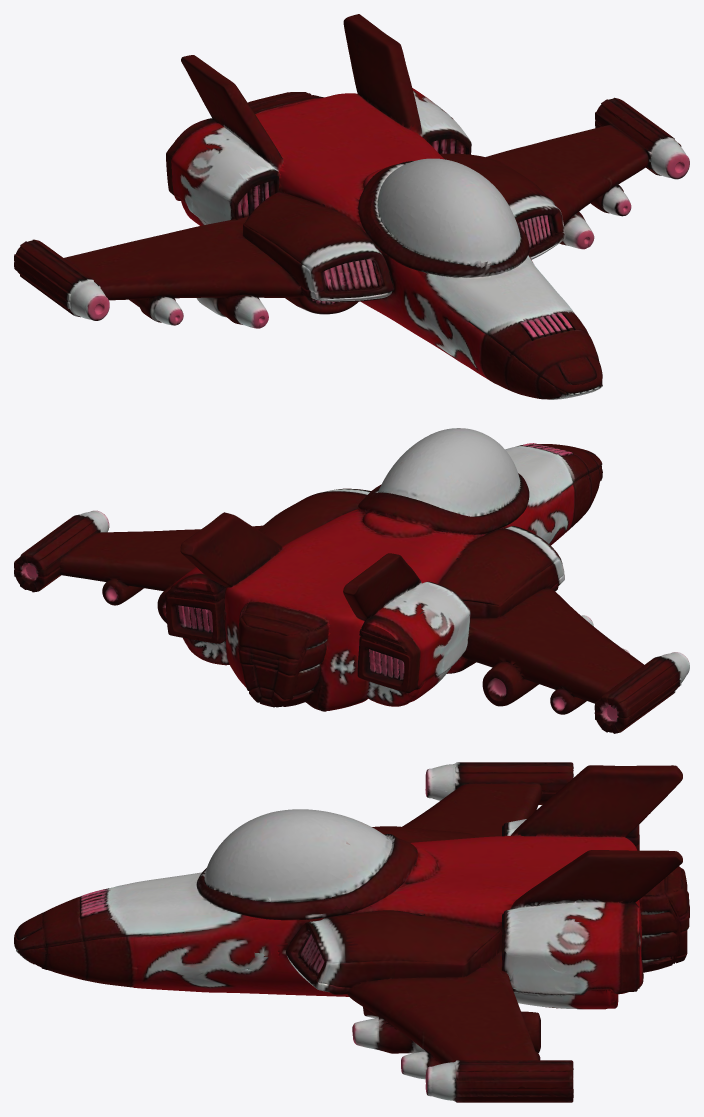
The model's file is ship_chef.fbx.
The picture shows the model from 3 angles, top to bottom: view 1: azimuth 30°, elevation 25°; view 2: azimuth 150°, elevation 25°; view 3: azimuth 270°, elevation 25°; orthographic projection. The views are drawn at different scales.
Visible parts, largest first — view 1: tripo_node_dfb1b1a9; view 2: tripo_node_dfb1b1a9; view 3: tripo_node_dfb1b1a9.
Part boxes in pixels (x1,y1,x2,y2): tripo_node_dfb1b1a9: (14,14,689,399); tripo_node_dfb1b1a9: (14,428,689,733); tripo_node_dfb1b1a9: (14,762,689,1102).
Size of the model in its own units: 97.89 by 25.51 by 88.83.
Materials: 1 (1 with a texture image).
